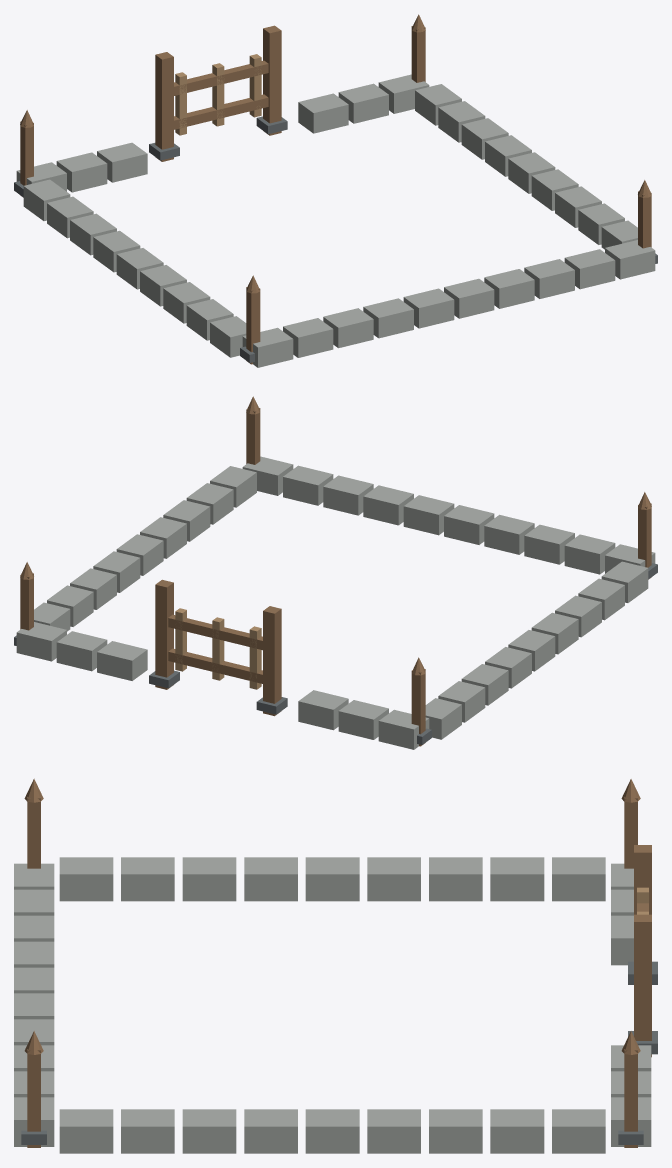
The model's file is vf_coppice_bed.glb.
3 views of the same model, one above another, from view 1: azimuth 30°, elevation 25°; view 2: azimuth 150°, elevation 25°; view 3: azimuth 270°, elevation 25° (orthographic). The views are drawn at different scales.
Visible parts, largest first — view 1: Static_Stone, Static_Oak, Gate_Oak, Gate_OakLight, Static_Iron; view 2: Static_Stone, Static_Oak, Gate_Oak, Gate_OakLight, Static_Iron; view 3: Static_Stone, Static_Oak, Static_Iron.
Boxes of the visible parts, x1,y1,x2,y2 form: Static_Stone: (16, 74, 655, 367); Static_Oak: (20, 14, 651, 364); Gate_Oak: (174, 60, 268, 129); Gate_OakLight: (175, 54, 261, 135); Static_Iron: (14, 116, 657, 362); Static_Stone: (16, 456, 655, 749); Static_Oak: (20, 396, 651, 746); Gate_Oak: (168, 614, 262, 683); Gate_OakLight: (175, 608, 261, 689); Static_Iron: (14, 563, 657, 744); Static_Stone: (14, 857, 651, 1153); Static_Oak: (24, 778, 651, 1147); Static_Iron: (21, 961, 657, 1144).
Bounding box in the file's own units: 4.27 × 1 × 4.32.
